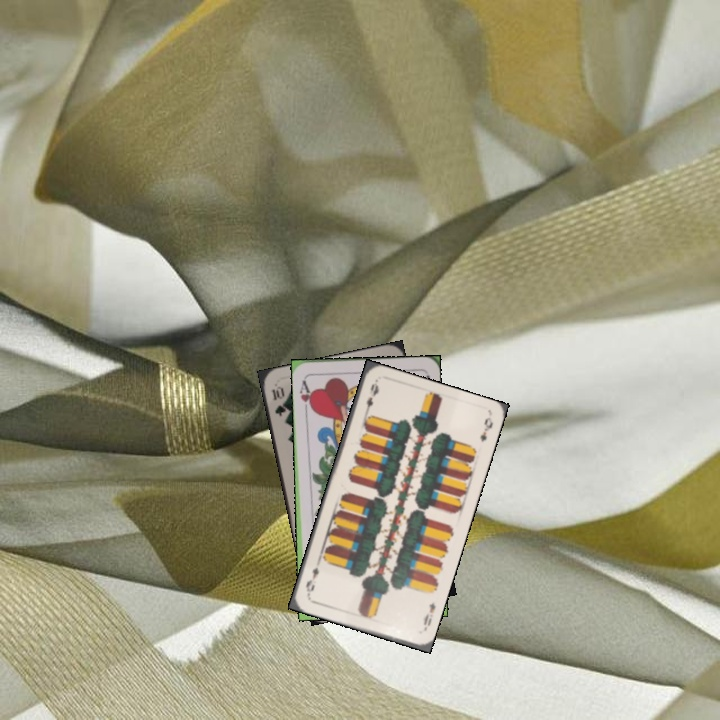E9: (361, 379, 381, 419), (419, 598, 438, 634)
G10: (268, 382, 288, 419)
HA: (295, 375, 316, 415)
